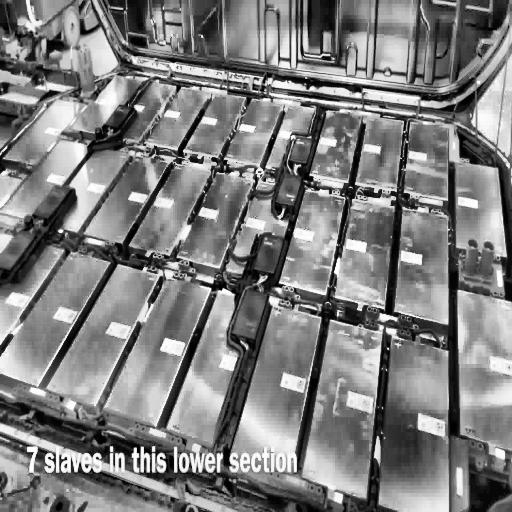battery_module: (47, 264, 159, 406), (103, 279, 211, 426), (0, 250, 110, 387), (232, 305, 322, 470), (301, 317, 382, 500), (167, 289, 256, 447), (84, 156, 170, 245), (129, 164, 210, 254), (178, 173, 254, 268), (279, 190, 346, 295), (334, 202, 395, 307), (395, 208, 450, 323), (183, 93, 247, 156), (224, 97, 283, 163), (308, 111, 363, 180), (146, 89, 208, 149), (356, 116, 404, 190), (404, 122, 449, 200)
high_volt_cable: (210, 280, 263, 455)
low_volt_cable: (250, 101, 319, 223)
